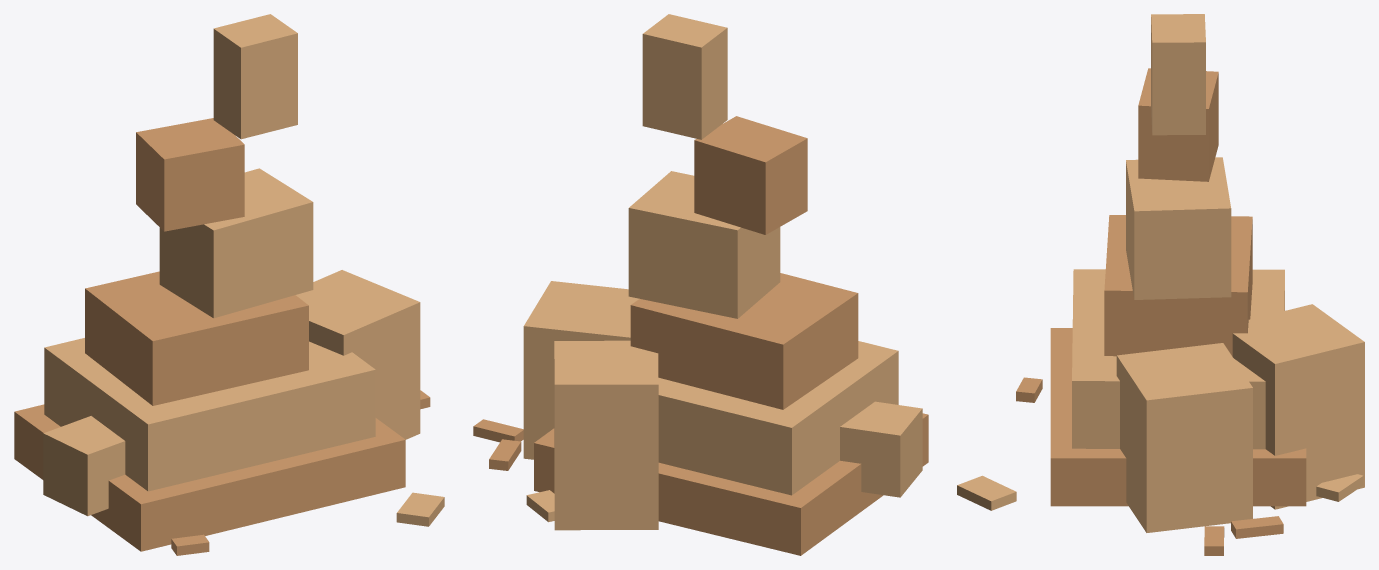
The model's file is SandRock.fbx.
3 views of the same model, side by side, from view 1: azimuth 30°, elevation 25°; view 2: azimuth 150°, elevation 25°; view 3: azimuth 270°, elevation 25° (orthographic).
Visible parts, largest first — view 1: Sand.002, SandDark.003; view 2: Sand.002, SandDark.003; view 3: Sand.002, SandDark.003.
Boxes of the visible parts, x1,y1,x2,y2 form: Sand.002: [43, 14, 444, 526]; SandDark.003: [14, 118, 430, 555]; Sand.002: [523, 14, 922, 530]; SandDark.003: [473, 116, 928, 555]; Sand.002: [957, 14, 1364, 532]; SandDark.003: [1016, 68, 1306, 555].
Bounding box in the file's own units: 10.59 × 11.04 × 9.25.
